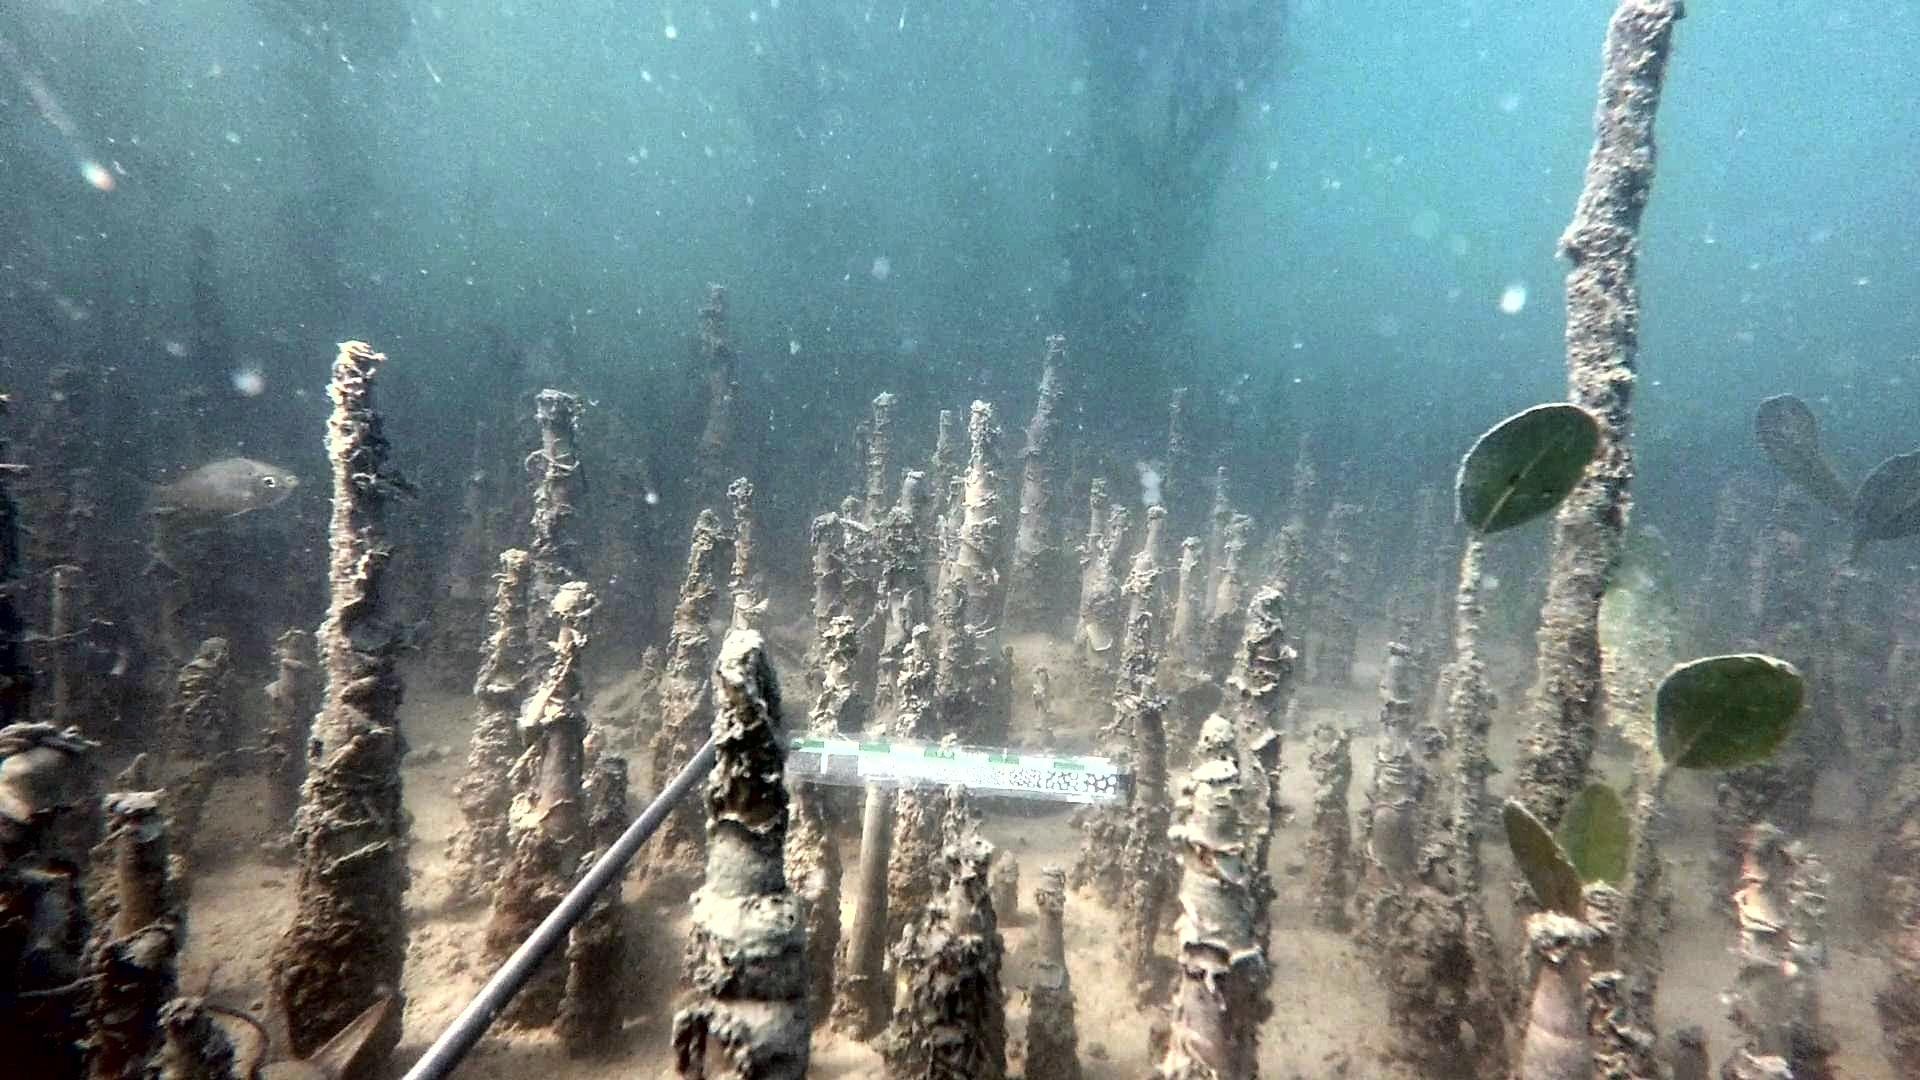gerres: (119, 452, 299, 524)
